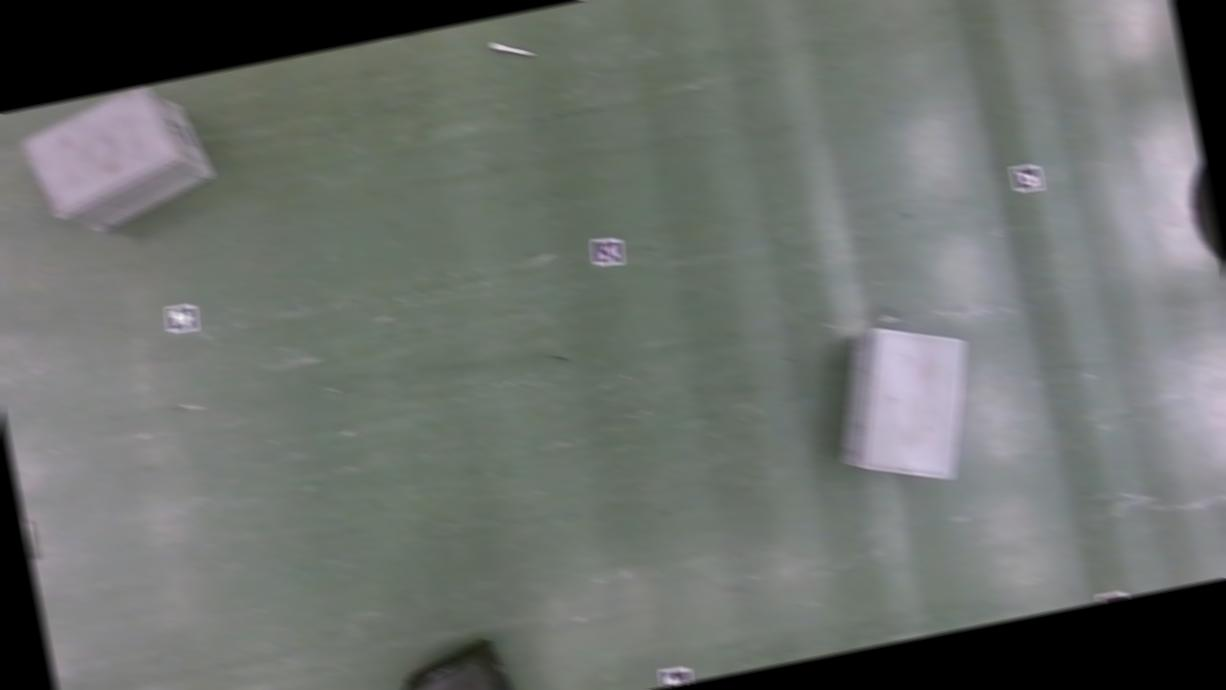probes: (488, 34, 534, 62), (20, 515, 39, 561)
rako: (5, 74, 226, 250), (809, 308, 994, 501), (378, 631, 534, 690)
